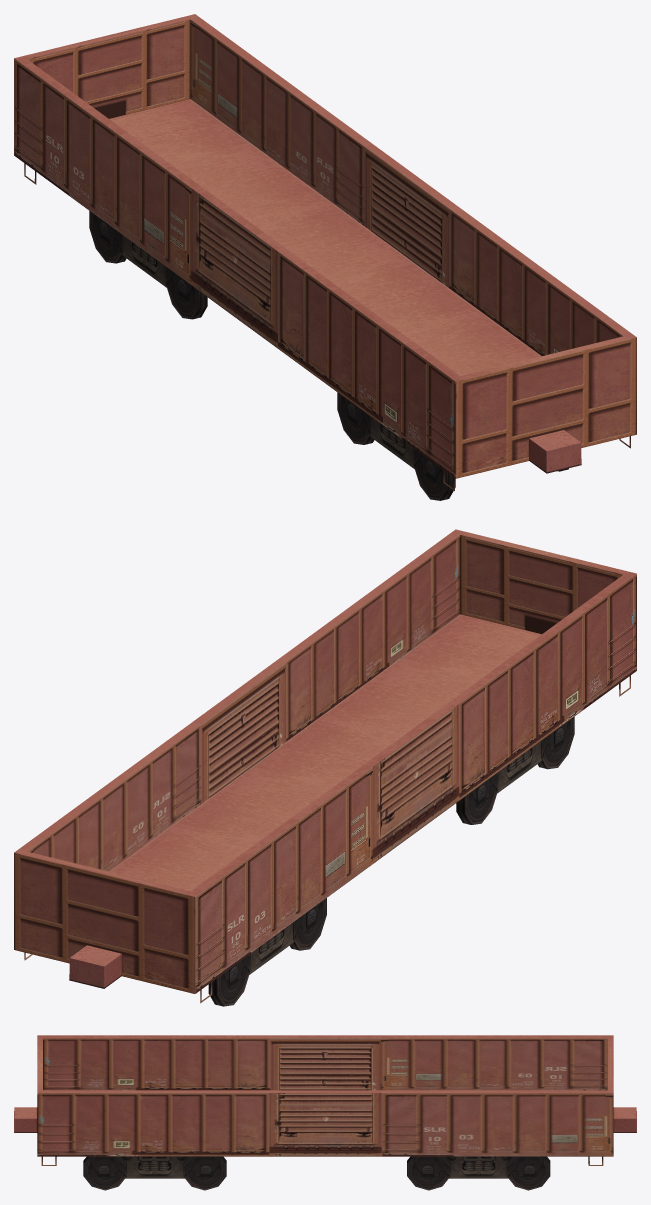
Rendered from Empty_Wagon.fbx.
3 renders of one model, top to bottom at view 1: azimuth 30°, elevation 25°; view 2: azimuth 150°, elevation 25°; view 3: azimuth 270°, elevation 25°, orthographic. The views are drawn at different scales.
Parts seen in each view (by area): view 1: polySurface14, Wheels03, Wheels01, Wheels04, Wheels02, Struts01, Struts02; view 2: polySurface14, Wheels02, Wheels04, Wheels01, Wheels03, Struts01, Struts02; view 3: polySurface14, Struts01, Struts02, Wheels04, Wheels02, Wheels01, Wheels03.
Boxes of the visible parts, box(x1,y1,x2,y2) form: polySurface14: box(14, 14, 636, 490); Wheels03: box(165, 267, 207, 319); Wheels01: box(413, 448, 568, 500); Wheels04: box(89, 211, 126, 263); Wheels02: box(337, 392, 374, 444); Struts01: box(369, 417, 414, 468); Struts02: box(122, 236, 166, 287); polySurface14: box(14, 529, 636, 1003); Wheels02: box(456, 772, 498, 824); Wheels04: box(208, 954, 250, 1006); Wheels01: box(537, 717, 574, 769); Wheels03: box(289, 898, 326, 950); Struts01: box(497, 741, 542, 793); Struts02: box(249, 923, 294, 974); polySurface14: box(14, 1035, 636, 1165); Struts01: box(122, 1156, 187, 1178); Struts02: box(446, 1156, 511, 1178); Wheels04: box(506, 1156, 550, 1190); Wheels02: box(183, 1156, 226, 1190); Wheels01: box(83, 1156, 126, 1190); Wheels03: box(407, 1156, 450, 1190).
Size of the model in its own units: 2.52 by 2.16 by 11.48.
